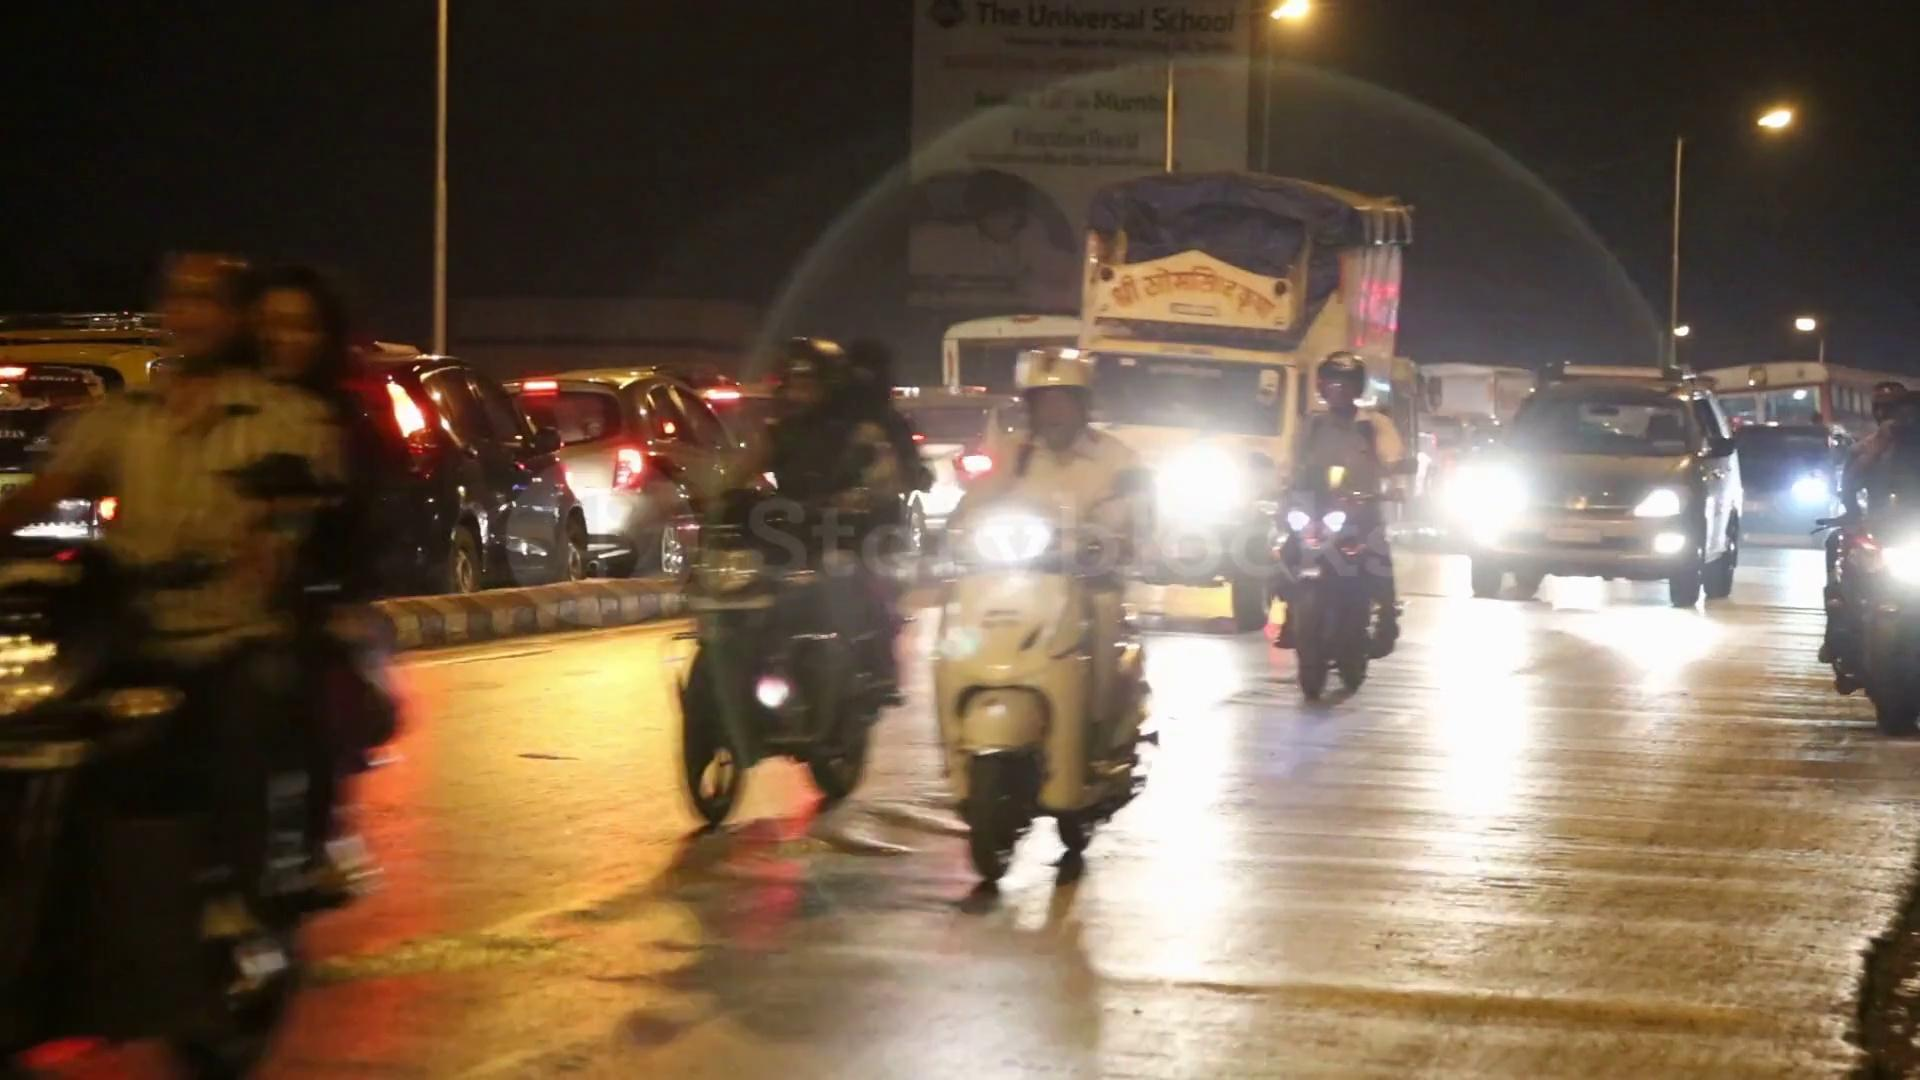rider: (34, 219, 376, 1067), (649, 323, 904, 844), (970, 339, 1140, 916), (1270, 349, 1407, 695), (1841, 387, 1920, 726)
with_helmate: (1004, 349, 1109, 453), (767, 339, 846, 420), (1313, 351, 1370, 410)
without_helmate: (146, 247, 250, 363)
